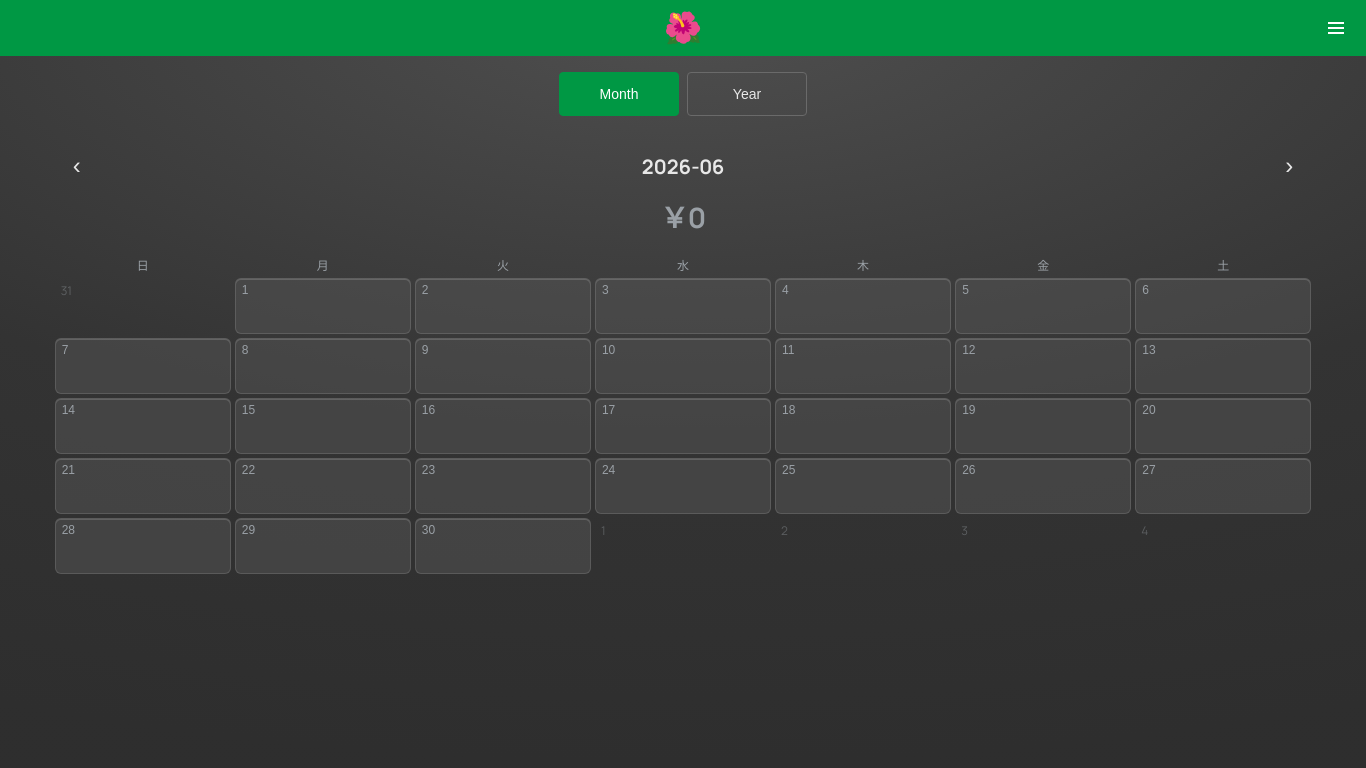
Test case: 日次入力・編集 › 日セルをタップするとその日の投資・回収の入力モーダルが開く
The image size is (1366, 768).
Click the button "10".
click(683, 366)  # box [595,338,771,394]
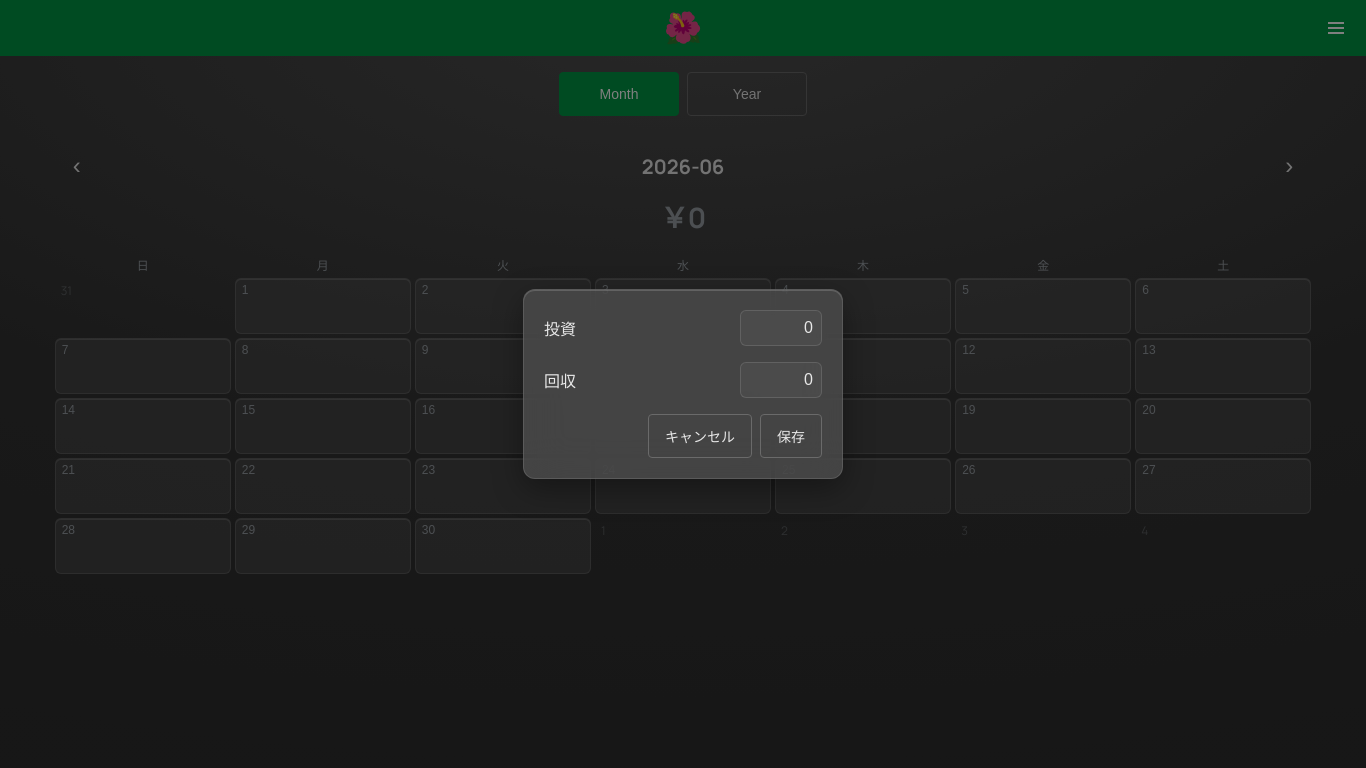
Now the field named "投資" is shown, box [740,310,822,346]
Now the field named "回収" is shown, box [740,362,822,398]
